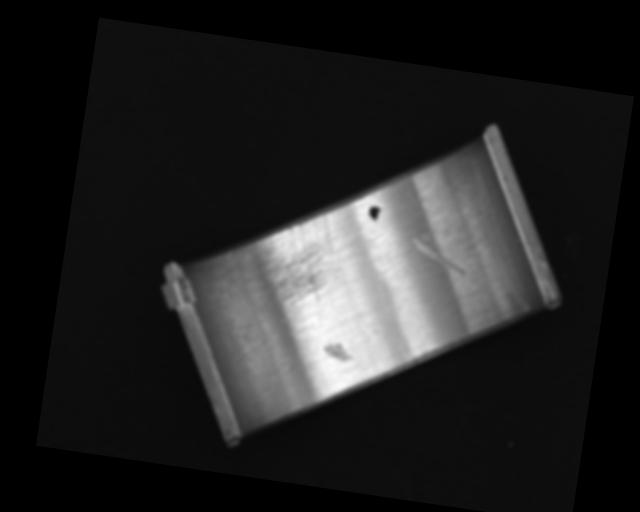blot: (367, 204, 382, 222)
bruise: (321, 340, 354, 362)
nick: (408, 237, 468, 275), (396, 190, 425, 264)
scratch: (228, 200, 353, 314)
